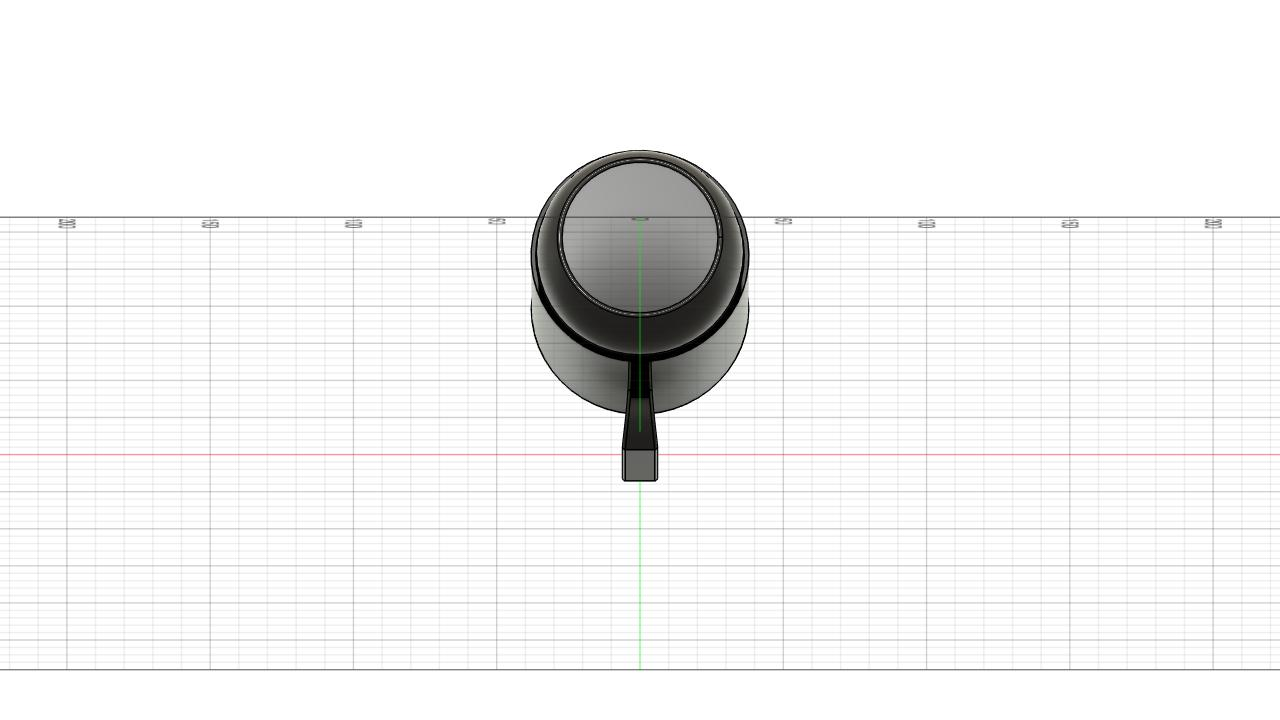mug-real100-3d100: (531, 150, 748, 480)
